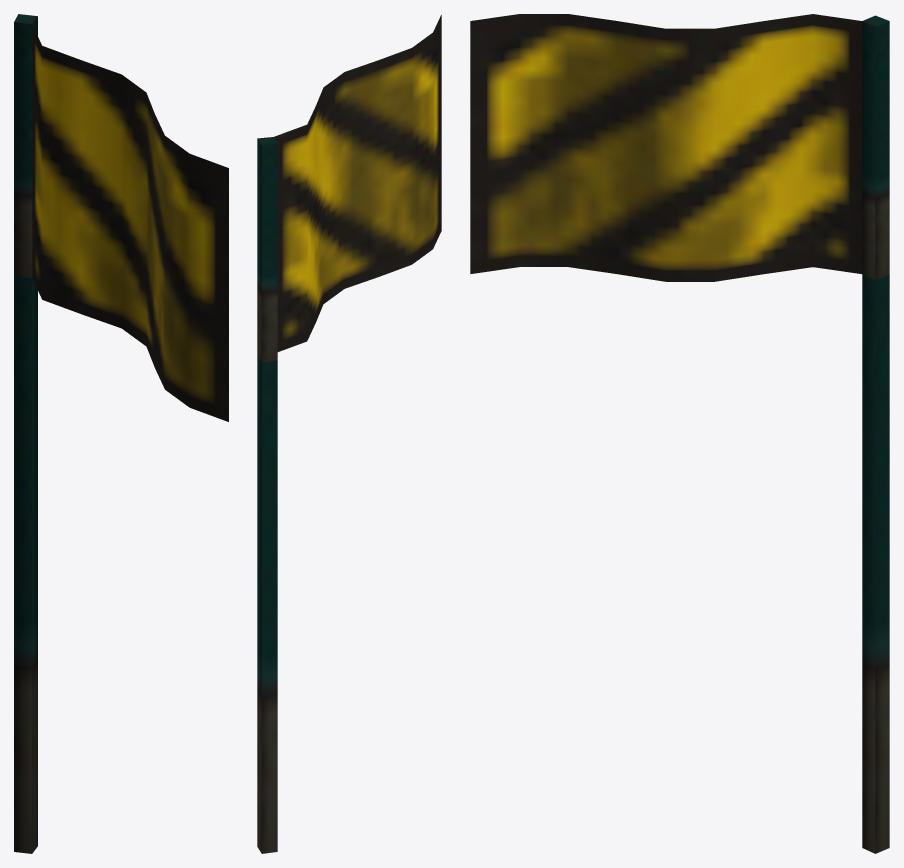
The model's file is prop-028.glb.
3 views of the same model, side by side, from view 1: azimuth 30°, elevation 25°; view 2: azimuth 150°, elevation 25°; view 3: azimuth 270°, elevation 25° (orthographic). The views are drawn at different scales.
Parts seen in each view (by area): view 1: root; view 2: root; view 3: root.
Boxes of the visible parts, box(x1,y1,x2,y2) form: root: box(14, 14, 228, 853); root: box(257, 14, 441, 853); root: box(470, 14, 889, 853).
Bounding box in the file's own units: 0.0566 × 1.49 × 0.6836.
2 materials, 2 textured.
